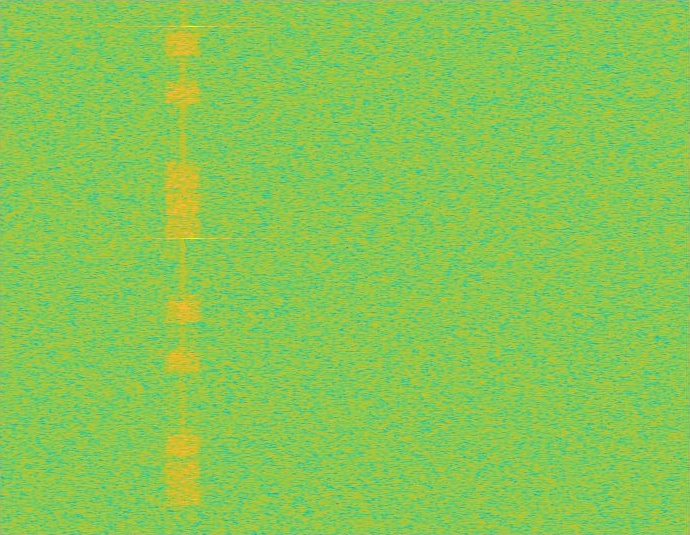DSSS: (180, 0, 185, 534)
LTE: (166, 0, 200, 534)
Radar: (186, 0, 200, 534)
